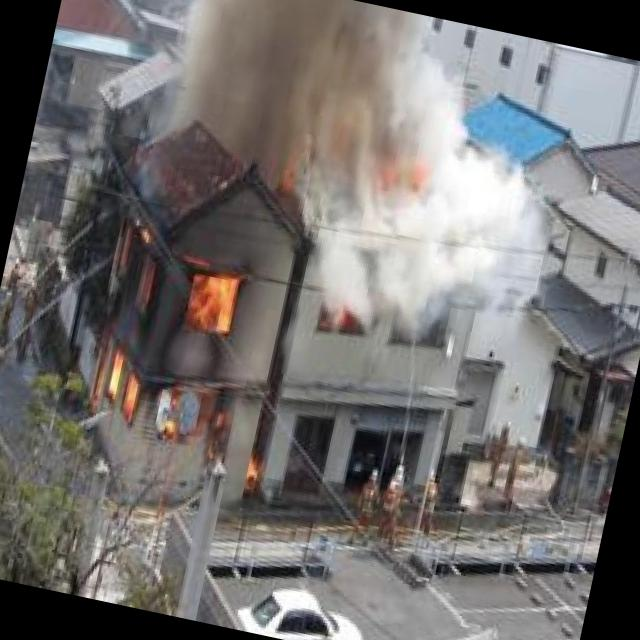Fire: (55, 193, 319, 509)
Smoke: (274, 0, 592, 346), (151, 0, 338, 202)
